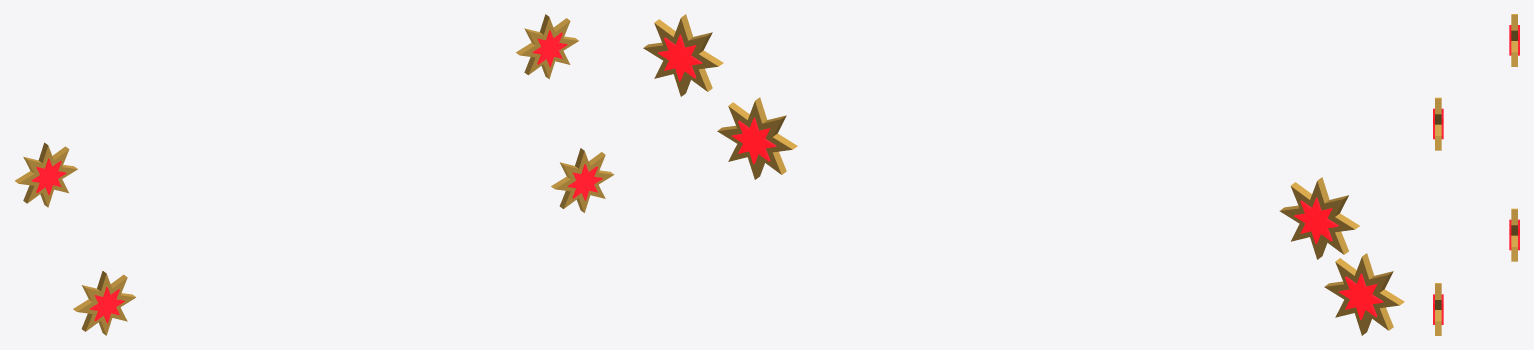
The model's file is PORTAO_OnePunchMan_12_VFX_HELPERS_051cae.fbx.
The picture shows the model from 3 angles, left to right: view 1: azimuth 30°, elevation 25°; view 2: azimuth 150°, elevation 25°; view 3: azimuth 270°, elevation 25°; orthographic projection. The views are drawn at different scales.
Parts seen in each view (by area): view 1: VFX_GATE_OnePunchMan_Star_1__Metal_Gold, VFX_GATE_OnePunchMan_Star_3__Metal_Gold, VFX_GATE_OnePunchMan_Star_4__Metal_Gold, VFX_GATE_OnePunchMan_Star_2__Metal_Gold, VFX_GATE_OnePunchMan_Star_4__P_Red_Glow, VFX_GATE_OnePunchMan_Star_2__P_Red_Glow, VFX_GATE_OnePunchMan_Star_1__P_Red_Glow, VFX_GATE_OnePunchMan_Star_3__P_Red_Glow; view 2: VFX_GATE_OnePunchMan_Star_1__Metal_Gold, VFX_GATE_OnePunchMan_Star_2__Metal_Gold, VFX_GATE_OnePunchMan_Star_3__Metal_Gold, VFX_GATE_OnePunchMan_Star_4__Metal_Gold, VFX_GATE_OnePunchMan_Star_4__P_Red_Glow, VFX_GATE_OnePunchMan_Star_2__P_Red_Glow, VFX_GATE_OnePunchMan_Star_3__P_Red_Glow, VFX_GATE_OnePunchMan_Star_1__P_Red_Glow; view 3: VFX_GATE_OnePunchMan_Star_2__Metal_Gold, VFX_GATE_OnePunchMan_Star_4__Metal_Gold, VFX_GATE_OnePunchMan_Star_1__Metal_Gold, VFX_GATE_OnePunchMan_Star_3__Metal_Gold, VFX_GATE_OnePunchMan_Star_2__P_Red_Glow, VFX_GATE_OnePunchMan_Star_4__P_Red_Glow, VFX_GATE_OnePunchMan_Star_1__P_Red_Glow, VFX_GATE_OnePunchMan_Star_3__P_Red_Glow.
Part boxes in pixels (box(x1,y1,x2,y2)): VFX_GATE_OnePunchMan_Star_1__Metal_Gold: box(15, 142, 77, 207); VFX_GATE_OnePunchMan_Star_3__Metal_Gold: box(551, 148, 614, 212); VFX_GATE_OnePunchMan_Star_4__Metal_Gold: box(516, 14, 578, 79); VFX_GATE_OnePunchMan_Star_2__Metal_Gold: box(73, 271, 135, 335); VFX_GATE_OnePunchMan_Star_4__P_Red_Glow: box(532, 30, 567, 66); VFX_GATE_OnePunchMan_Star_2__P_Red_Glow: box(90, 287, 124, 323); VFX_GATE_OnePunchMan_Star_1__P_Red_Glow: box(31, 158, 66, 195); VFX_GATE_OnePunchMan_Star_3__P_Red_Glow: box(567, 164, 602, 200); VFX_GATE_OnePunchMan_Star_1__Metal_Gold: box(1279, 177, 1359, 259); VFX_GATE_OnePunchMan_Star_2__Metal_Gold: box(1324, 253, 1404, 335); VFX_GATE_OnePunchMan_Star_3__Metal_Gold: box(717, 97, 797, 179); VFX_GATE_OnePunchMan_Star_4__Metal_Gold: box(643, 14, 723, 96); VFX_GATE_OnePunchMan_Star_4__P_Red_Glow: box(657, 34, 702, 81); VFX_GATE_OnePunchMan_Star_2__P_Red_Glow: box(1339, 273, 1383, 320); VFX_GATE_OnePunchMan_Star_3__P_Red_Glow: box(731, 117, 776, 164); VFX_GATE_OnePunchMan_Star_1__P_Red_Glow: box(1294, 197, 1338, 244); VFX_GATE_OnePunchMan_Star_2__Metal_Gold: box(1435, 97, 1441, 150); VFX_GATE_OnePunchMan_Star_4__Metal_Gold: box(1511, 208, 1517, 261); VFX_GATE_OnePunchMan_Star_1__Metal_Gold: box(1511, 14, 1517, 66); VFX_GATE_OnePunchMan_Star_3__Metal_Gold: box(1435, 283, 1441, 335); VFX_GATE_OnePunchMan_Star_2__P_Red_Glow: box(1433, 108, 1443, 139); VFX_GATE_OnePunchMan_Star_4__P_Red_Glow: box(1509, 219, 1519, 250); VFX_GATE_OnePunchMan_Star_1__P_Red_Glow: box(1509, 25, 1519, 55); VFX_GATE_OnePunchMan_Star_3__P_Red_Glow: box(1433, 294, 1443, 324).
Size of the model in its own units: 29.1 by 8.2 by 4.78.
